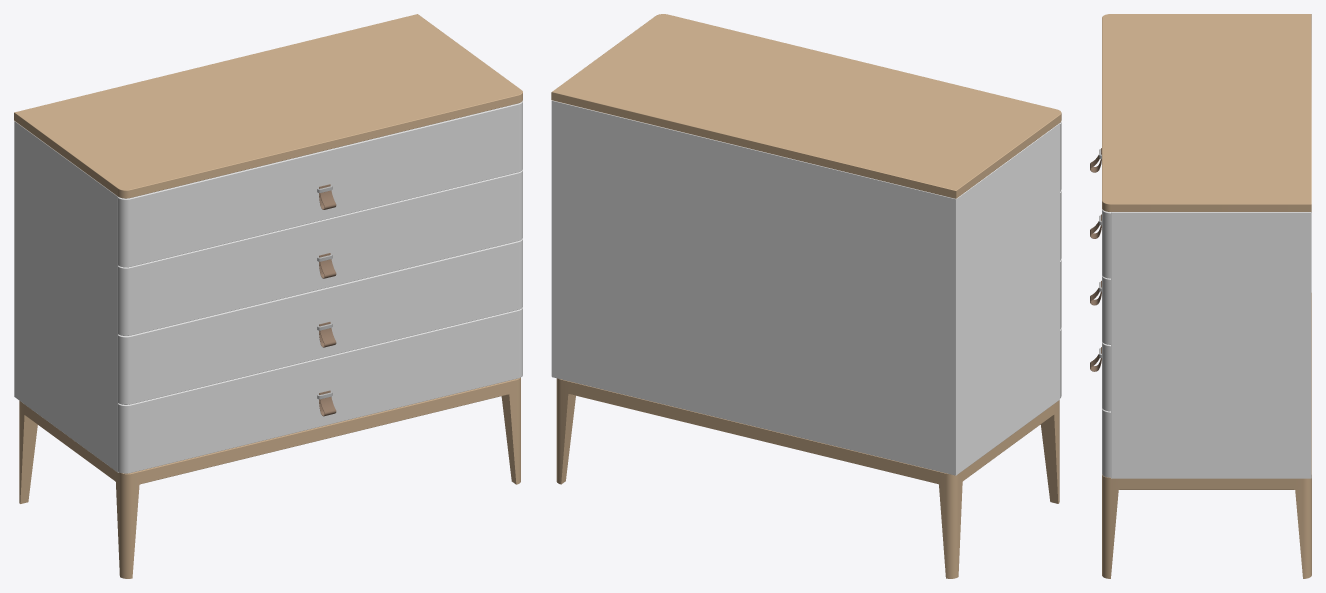
Rendered from comoda-saperavi.glb.
3 renders of one model, left to right at view 1: azimuth 30°, elevation 25°; view 2: azimuth 150°, elevation 25°; view 3: azimuth 270°, elevation 25°, orthographic. The views are drawn at different scales.
Bounding box in the file's own units: 1.01 × 0.93 × 0.4977.
